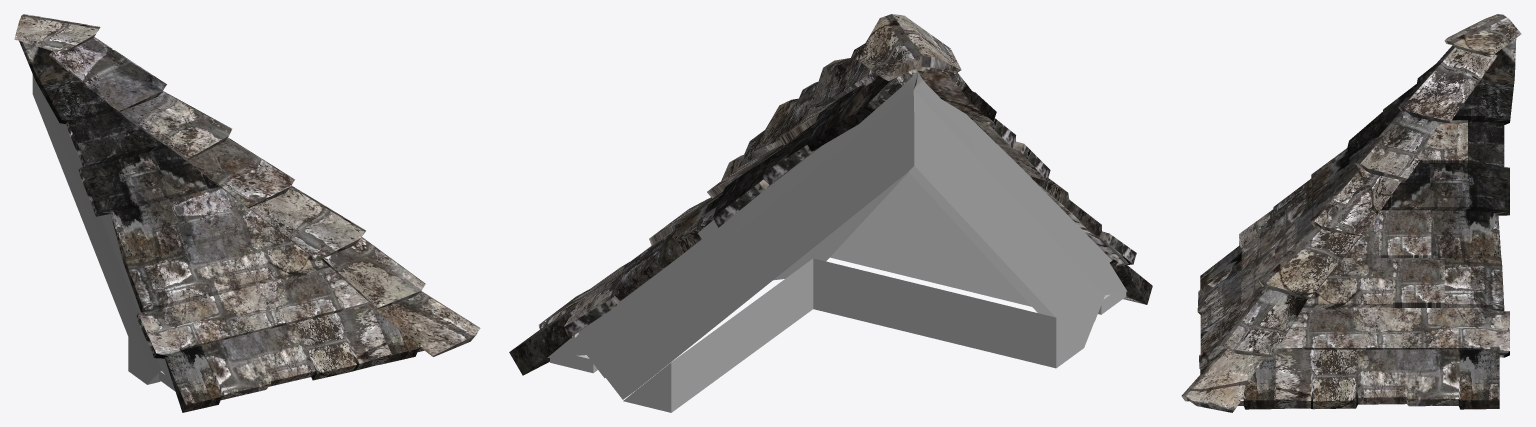
3 renders of one model, left to right at view 1: azimuth 30°, elevation 25°; view 2: azimuth 150°, elevation 25°; view 3: azimuth 270°, elevation 25°, orthographic. The views are drawn at different scales.
Parts seen in each view (by area): view 1: SM_T3_Roof_Med_Hip_LOD0; view 2: SM_T3_Roof_Med_Hip_LOD0; view 3: SM_T3_Roof_Med_Hip_LOD0.
Part boxes in pixels (left/top/right/bottom): SM_T3_Roof_Med_Hip_LOD0: left=14, top=14, right=480, bottom=412; SM_T3_Roof_Med_Hip_LOD0: left=509, top=14, right=1152, bottom=412; SM_T3_Roof_Med_Hip_LOD0: left=1181, top=14, right=1521, bottom=412.
Size of the model in its own units: 2.38 by 2.09 by 2.38.
